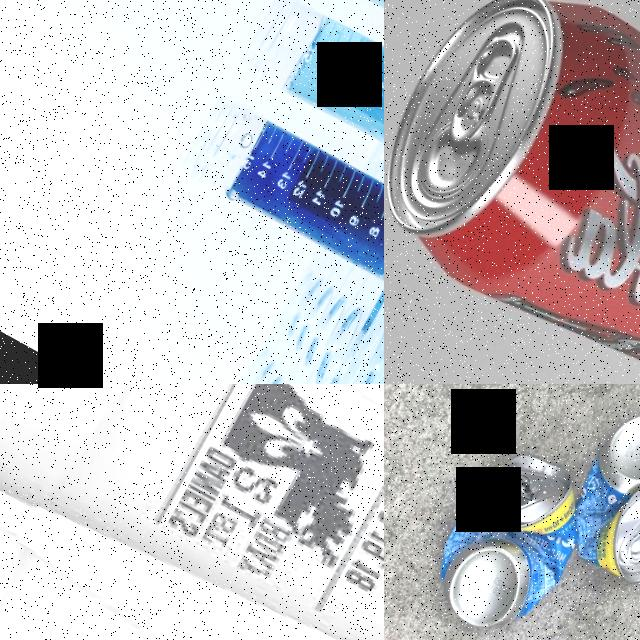can: (384, 0, 640, 384)
cup: (0, 384, 384, 640), (0, 479, 384, 640)
